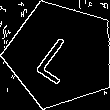L_NE: (32, 25, 89, 84)
